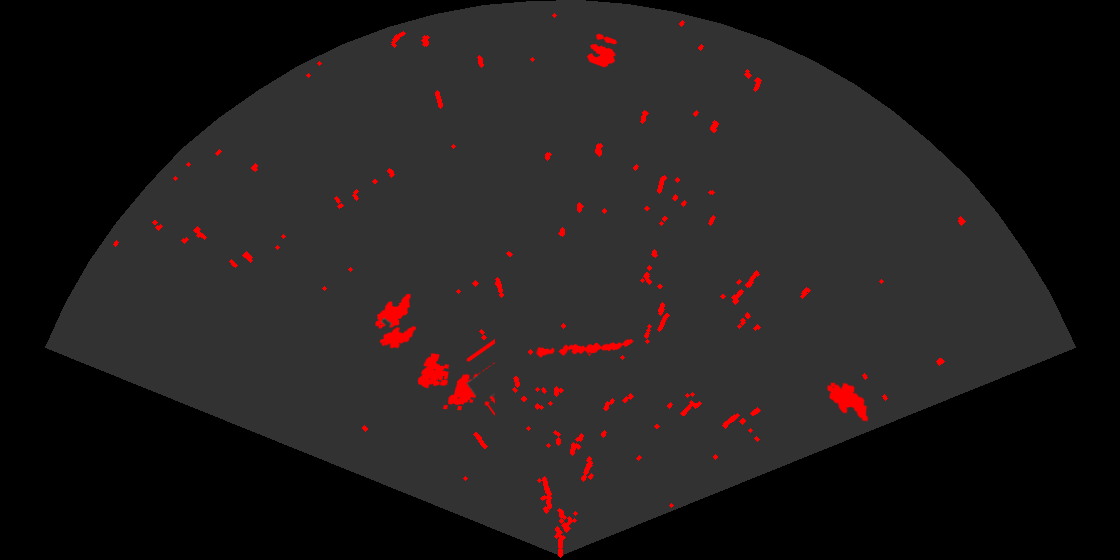AUV: (825, 381, 870, 423), (374, 292, 412, 330), (378, 324, 418, 350)
ball: (585, 32, 619, 69)
cage: (416, 337, 495, 417)
chain: (535, 337, 635, 359)
